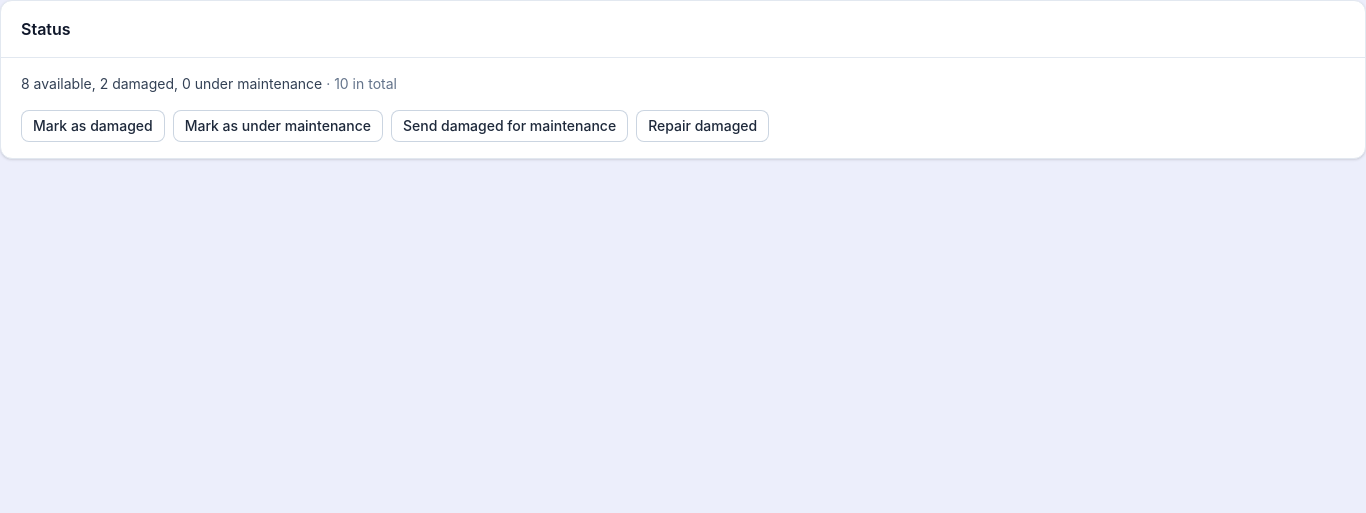
Test: US-45 equipment status panel (by quantity) › US-45 AC-5: a reservation already short by as much is not listed as affected
The width and height of the screenshot is (1366, 513).
Click the radio button labelled "Mark as under maintenance" at (278, 126), box [173,110,383,142]
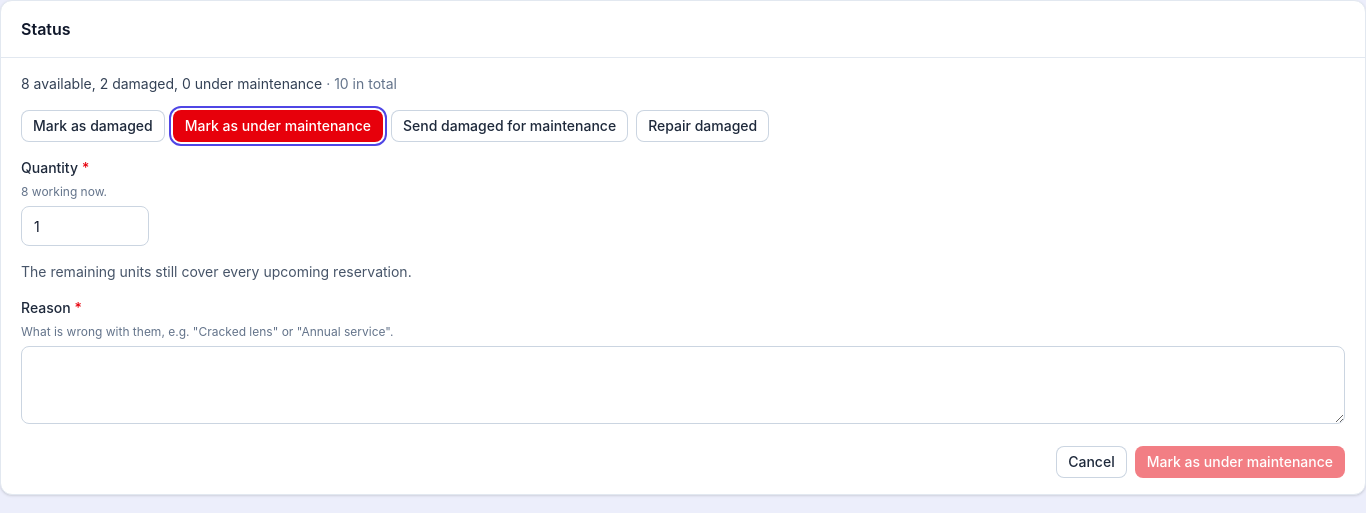
Expected: the text "The remaining units still cover every upcoming reservation." is shown, [21,263,412,280]
